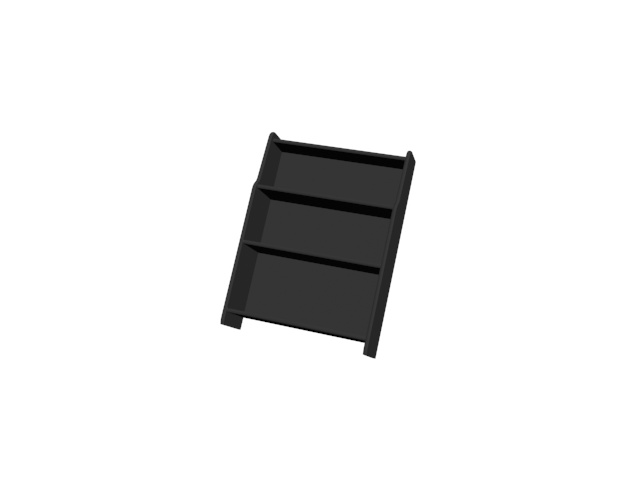bookcase: (217, 129, 416, 360)
